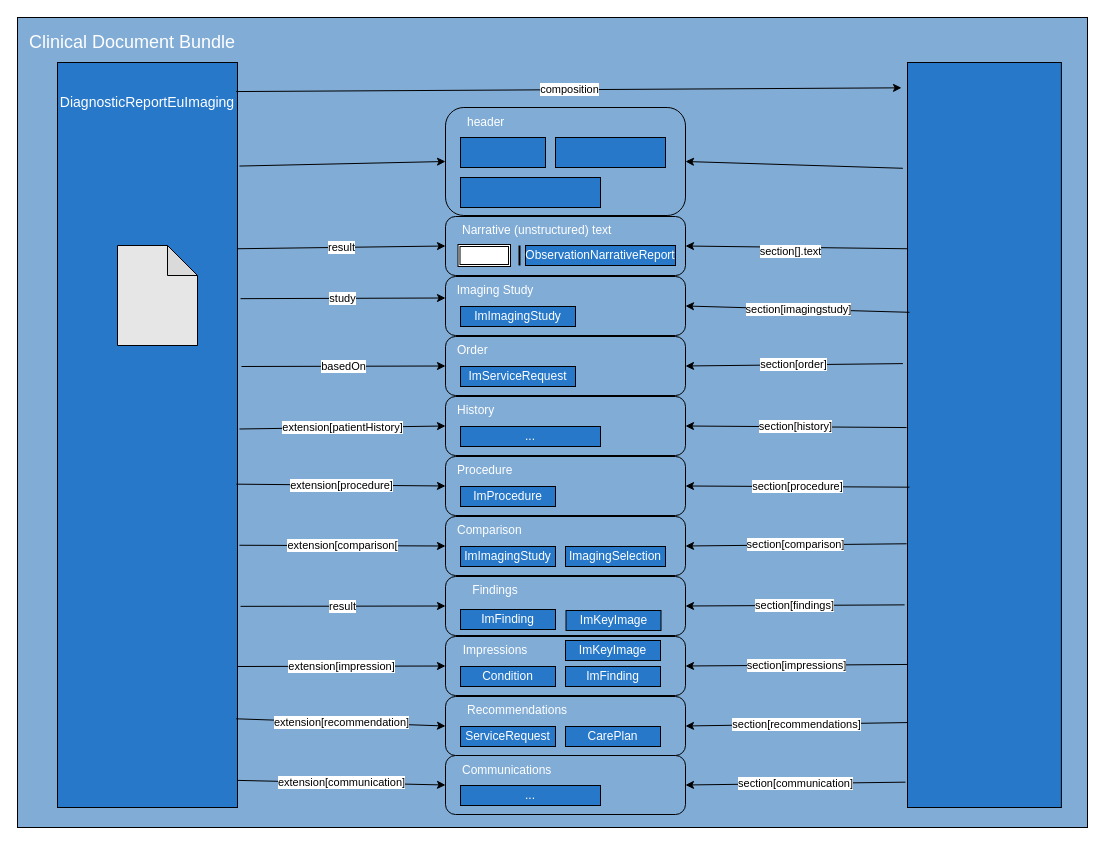
Some shapes in this 1105 by 845 pixel diagram are drawn without their labels. Here are the shapes that lost their labels. From the top down, the centre of each, then its label:
At pixel 503 152: "ImPatient".
At pixel 610 152: "EuOrganization".
At pixel 530 192: "EuPractitioner(Role)".
At pixel 483 255: "inline".
At pixel 157 295: "Rendered Report".
At pixel 983 435: "CompositionEuImaging".
